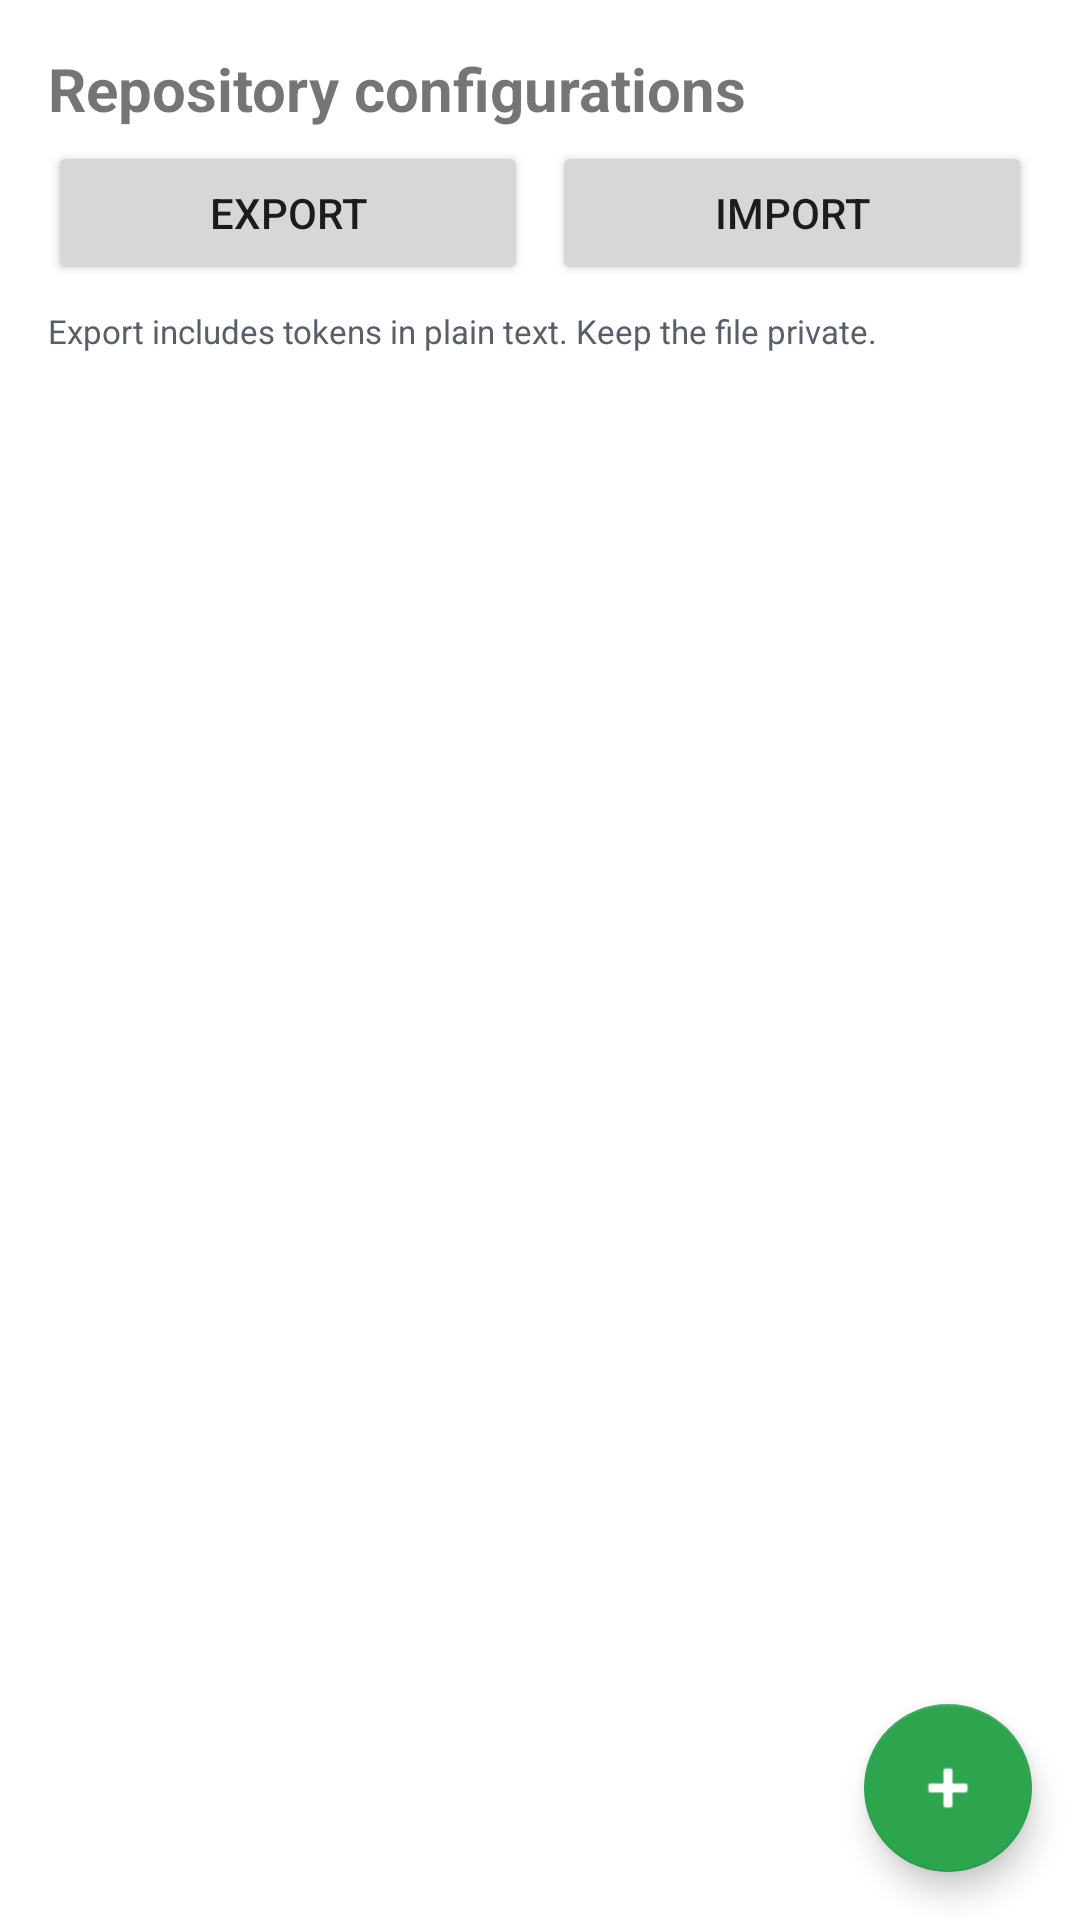

Locate icon controls on the screen. Image size 1080x1920, boxes as (x1, y1, x2, y2).
Add configuration: (864, 1704, 1032, 1872)
